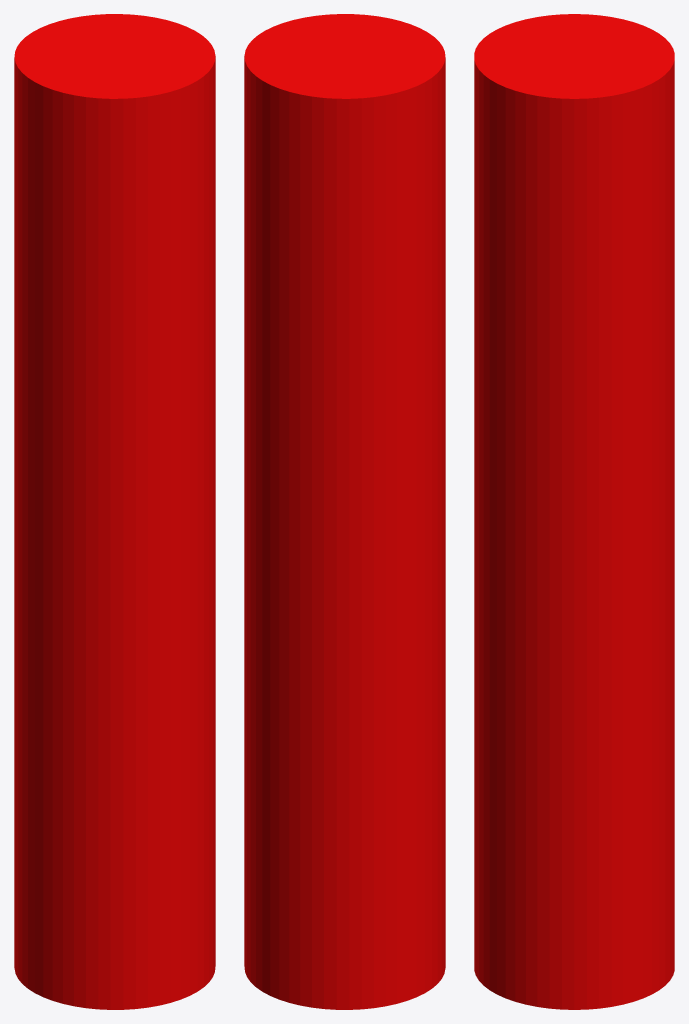
Rendered from _reference_skin_broken.dae.
The picture shows the model from 3 angles, left to right: view 1: azimuth 30°, elevation 25°; view 2: azimuth 150°, elevation 25°; view 3: azimuth 270°, elevation 25°; orthographic projection.
Parts seen in each view (by area): view 1: pCylinder1; view 2: pCylinder1; view 3: pCylinder1.
Boxes of the visible parts, left/top/right/bottom form: pCylinder1: left=14, top=14, right=215, bottom=1009; pCylinder1: left=244, top=14, right=445, bottom=1009; pCylinder1: left=474, top=14, right=674, bottom=1009.
Size of the model in its own units: 20 by 100 by 19.96.
